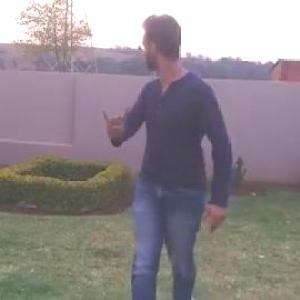takeoff-hand: (94, 96, 134, 146)
